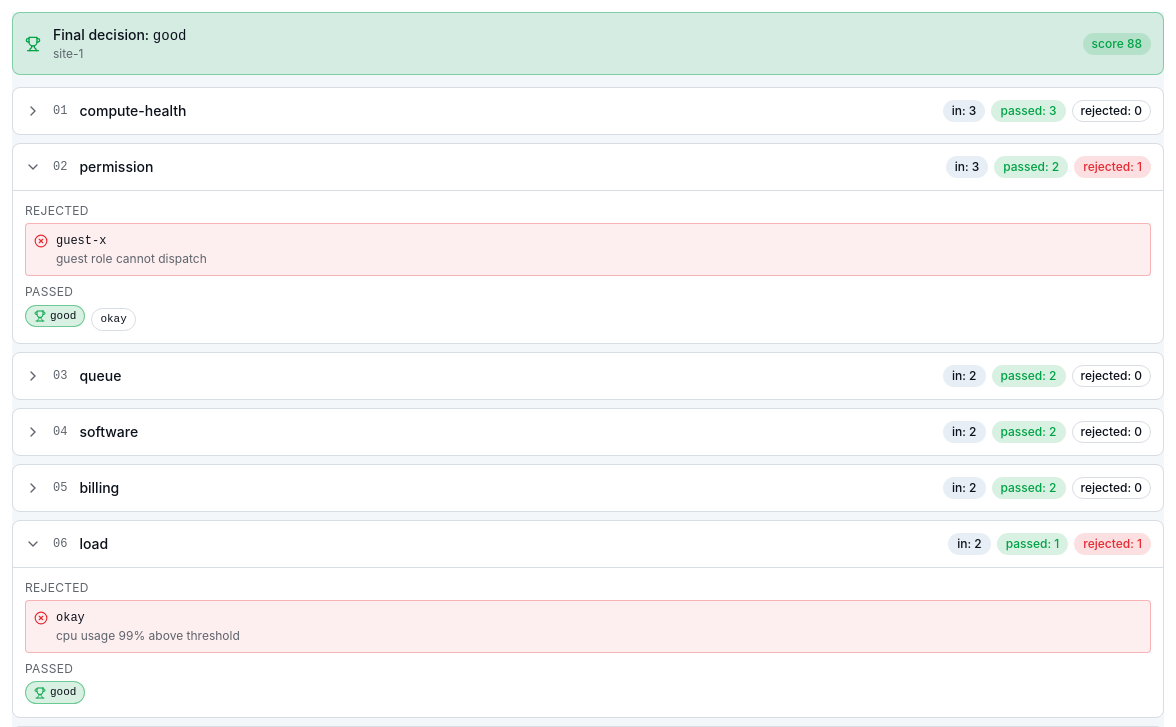
Test: PlacementPipelineView › expanded pass-only stages show the passed candidates instead of an empty body
This screenshot has width=1176, height=727.
Click the button with test id "placement-stage-toggle-queue". click: click(100, 375)
box: [13,352,1163,398]
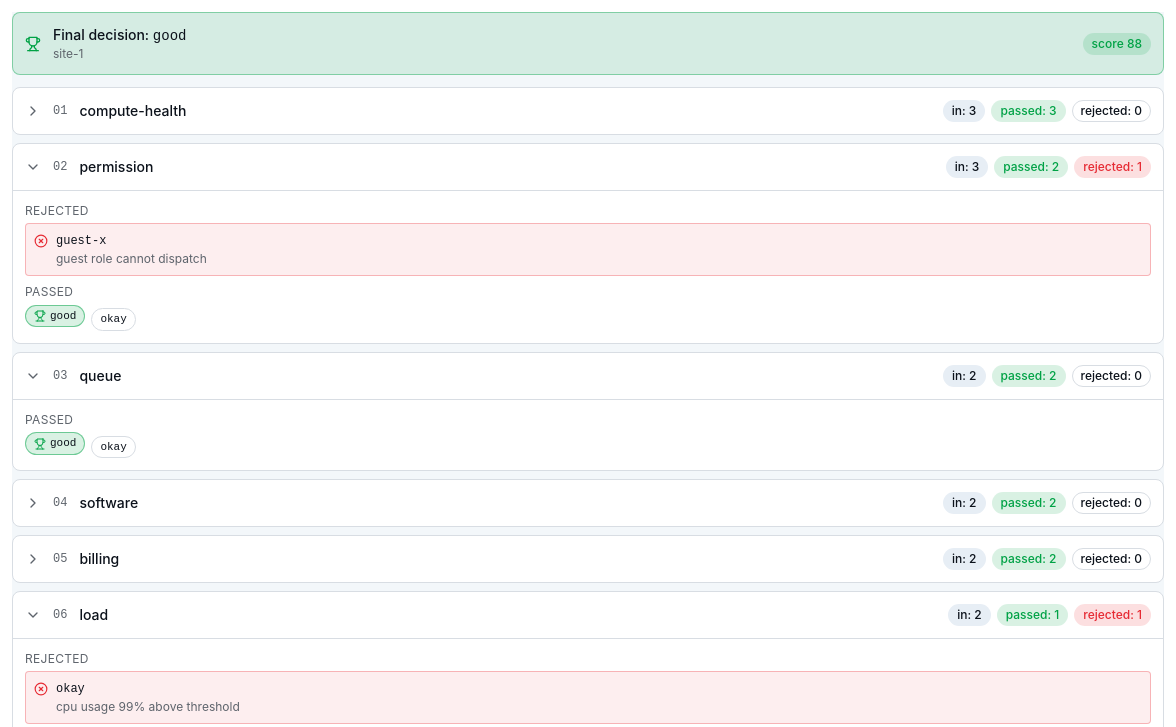
Expected: the element with test id "placement-passed-queue" shows "good", [25,432,85,455]
Expected: the element with test id "placement-passed-queue" shows "okay", [91,436,136,458]
